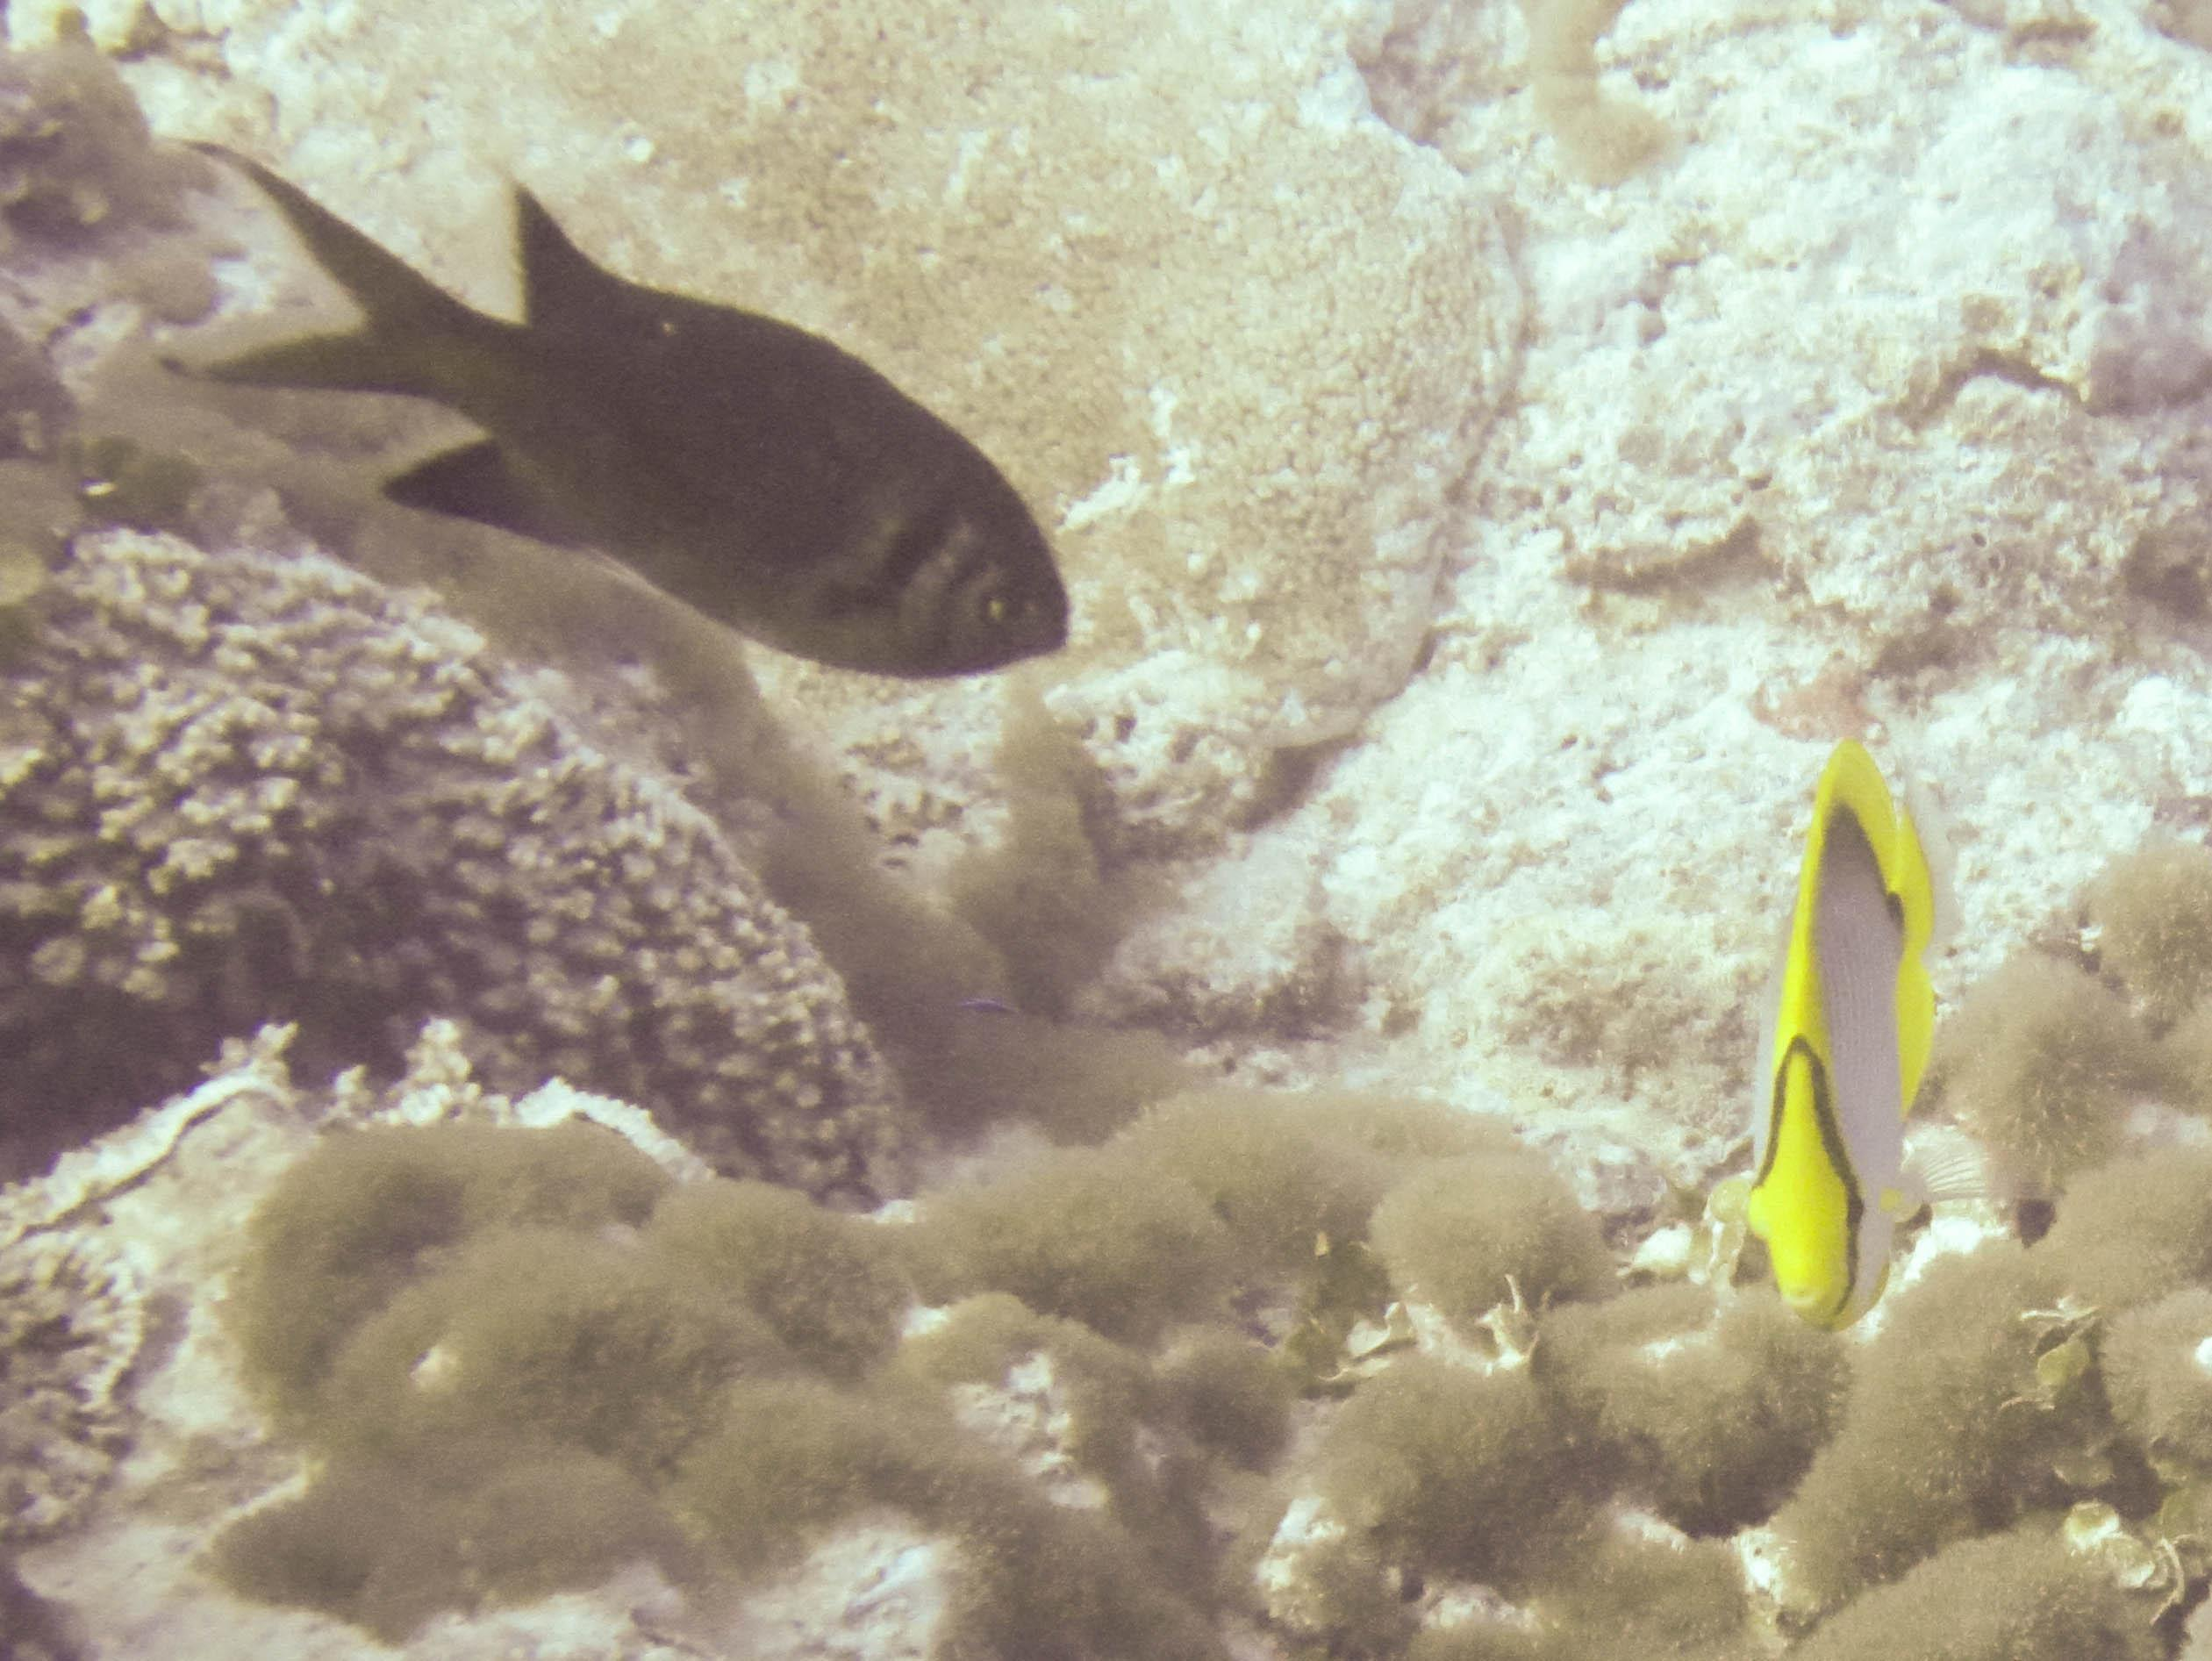Fish: (115, 108, 1101, 724)
